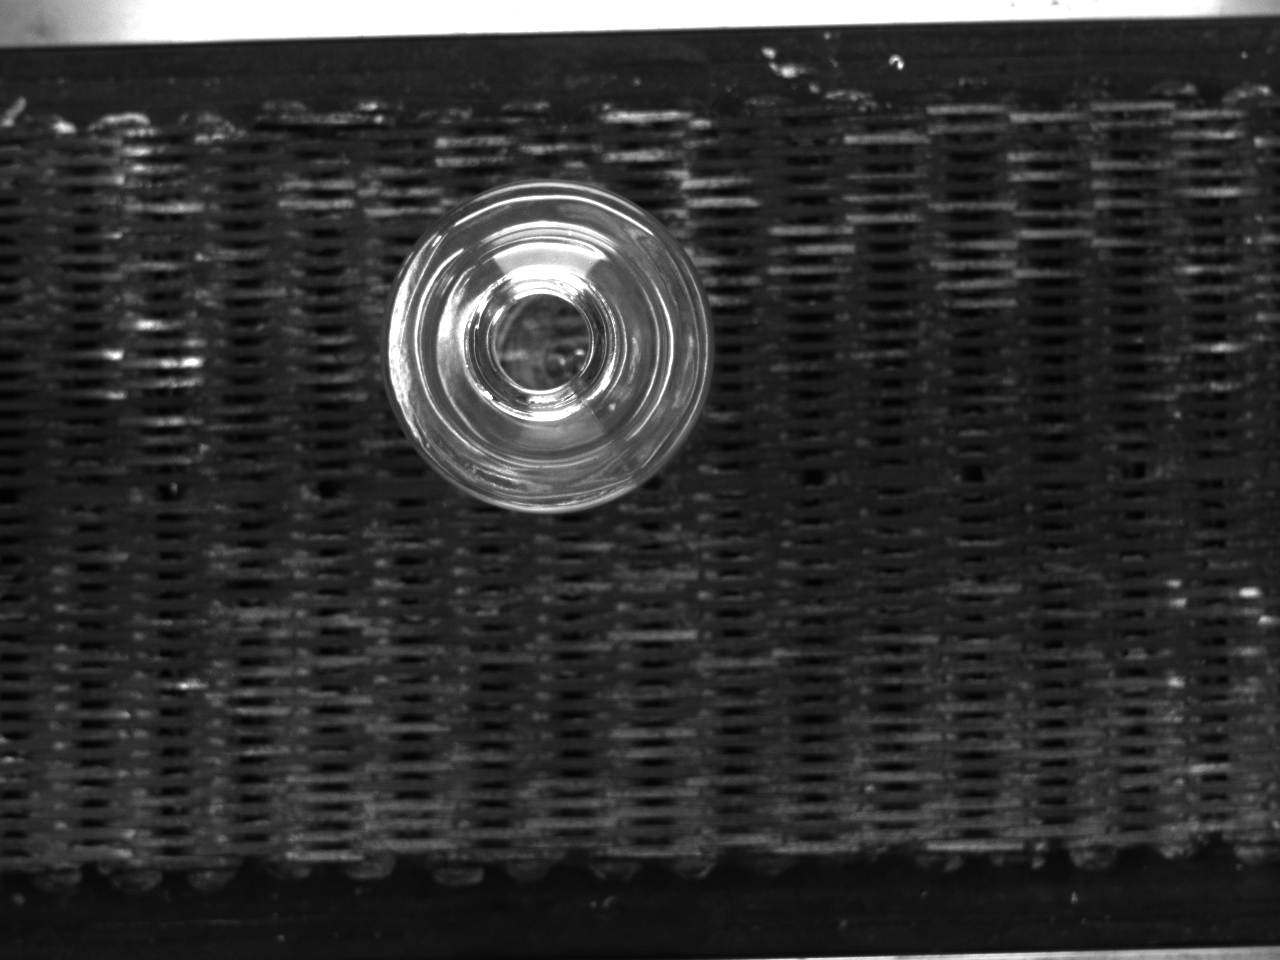bottleneck: (463, 265, 617, 421)
